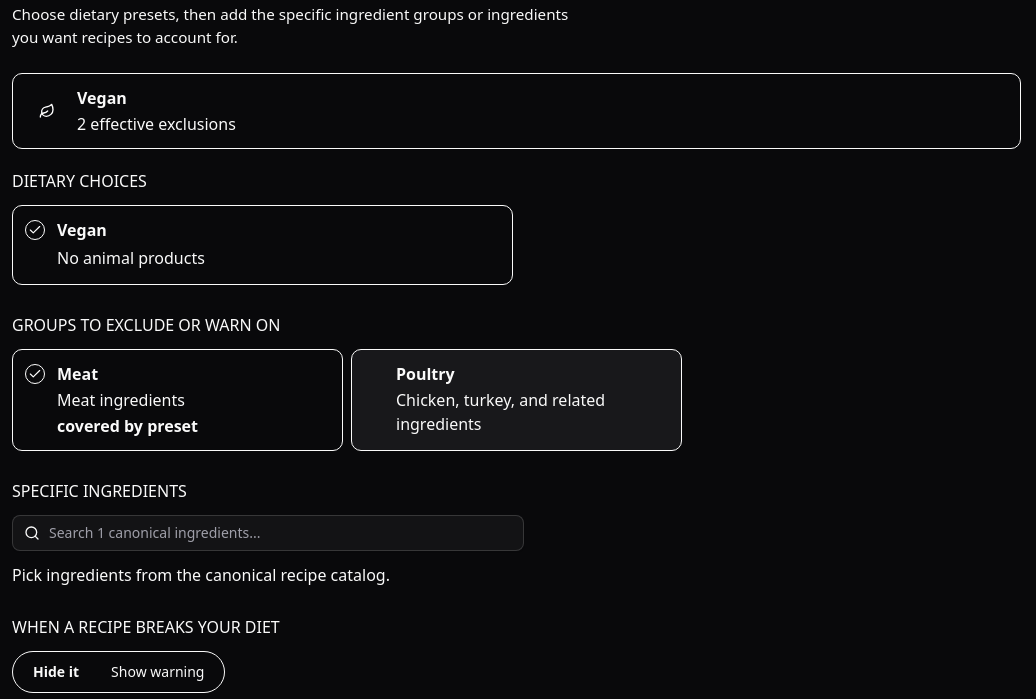
Test case: DietPanel › saves poultry as a custom group exclusion
This screenshot has width=1036, height=699.
Click the button "Poultry Chicken, turkey, and related ingredients".
click(516, 400)  # box top-left (351, 349), bottom-right (682, 451)
(page scrolled)
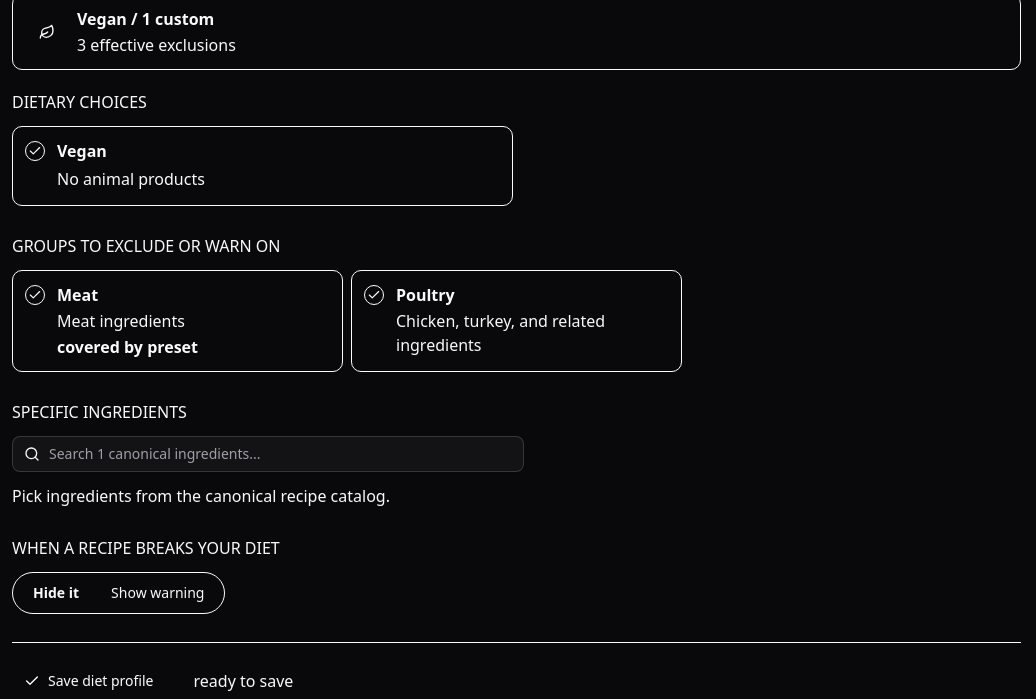
Click the button "Save diet profile".
click(89, 681)  # box top-left (12, 663), bottom-right (166, 698)
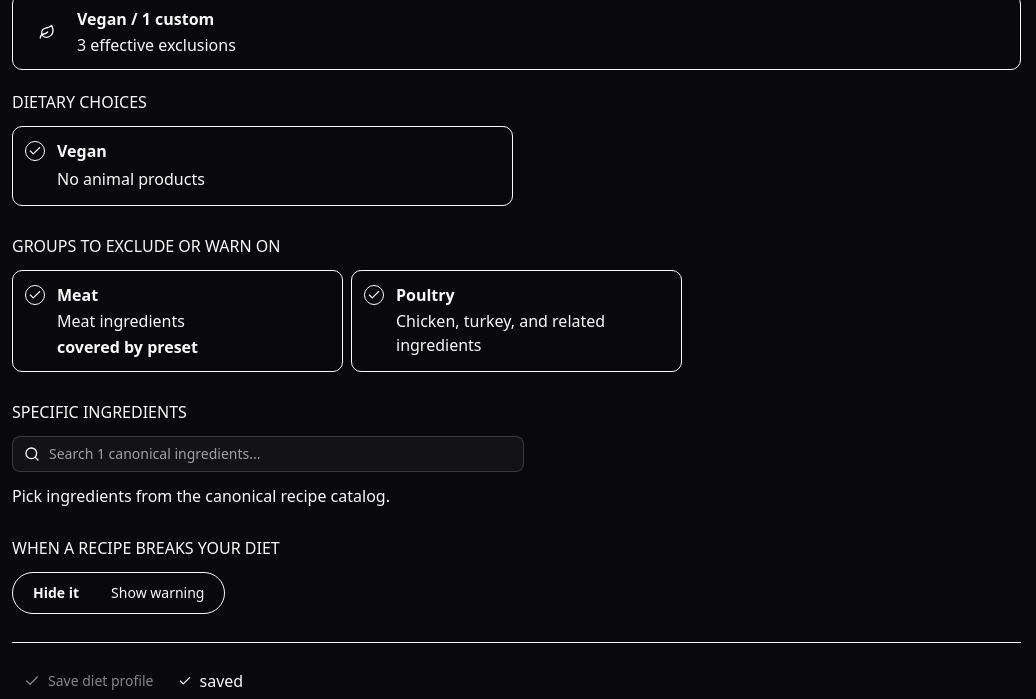
Check: the text "saved" is shown, box top-left (200, 669), bottom-right (243, 693)
